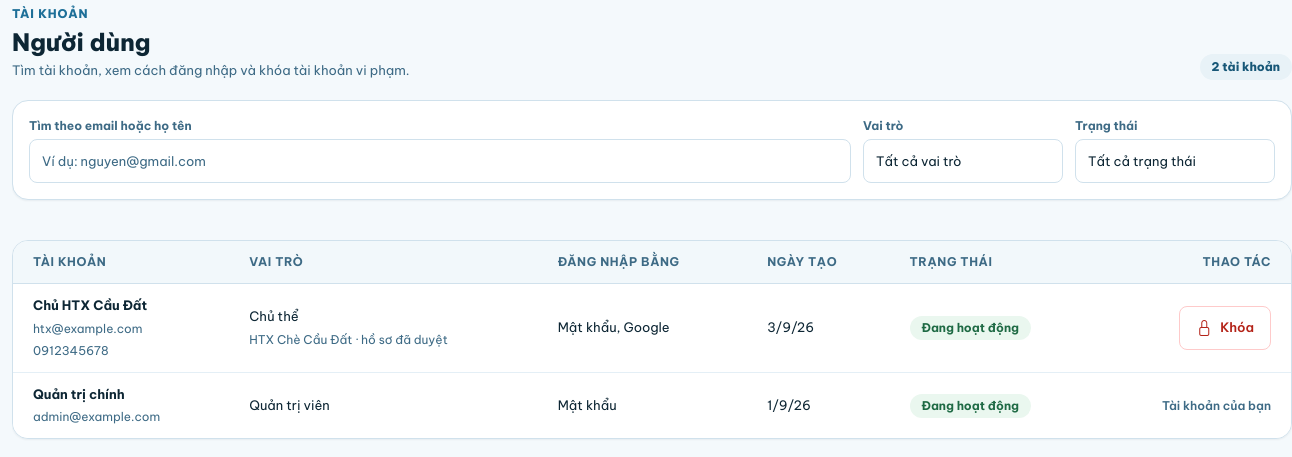
Test case: AdminUsersView › tìm kiếm có debounce và bỏ kết quả cũ khi lọc nhanh
Type "h" into the search field labelled "Tìm theo email hoặc họ tên" at point(440, 161), box [29, 139, 851, 183]
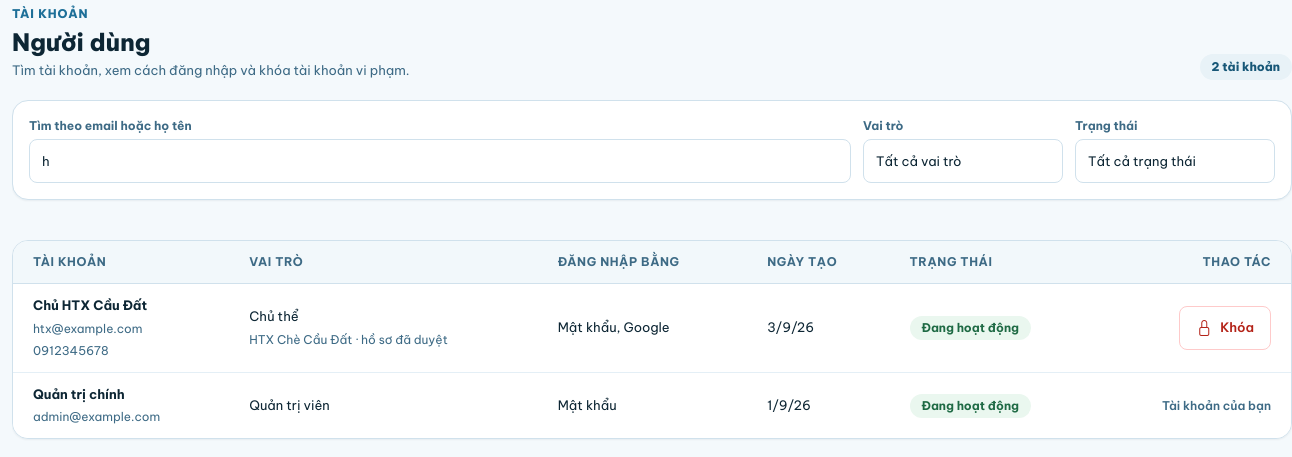
Replace the text in the search field labelled "Tìm theo email hoặc họ tên" with "htx" at point(440, 161), box [29, 139, 851, 183]
Wait 350 ms
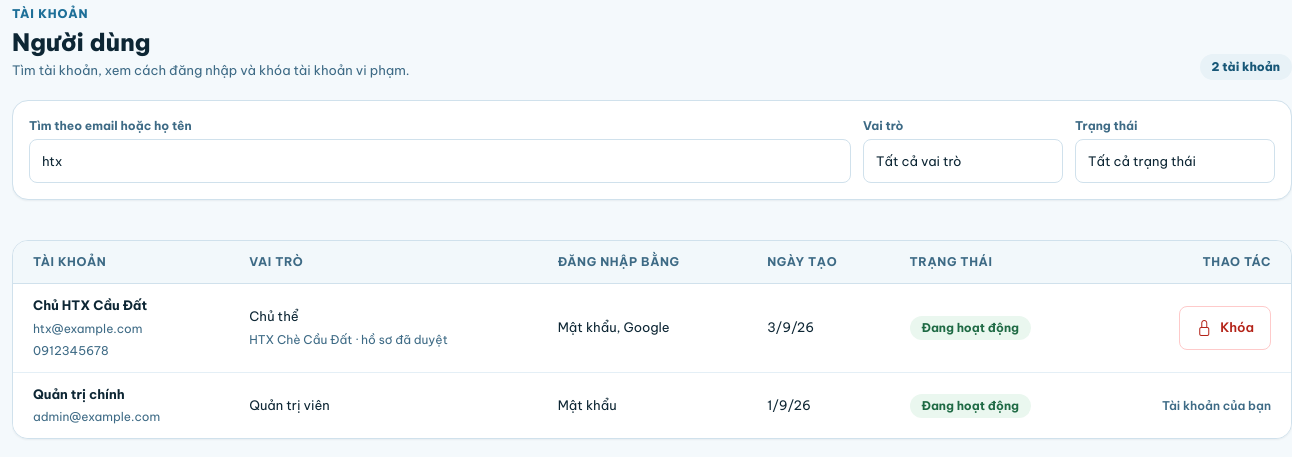
Select "Quản trị viên" in the dropdown labelled "Vai trò" at point(963, 161), box [863, 139, 1063, 183]
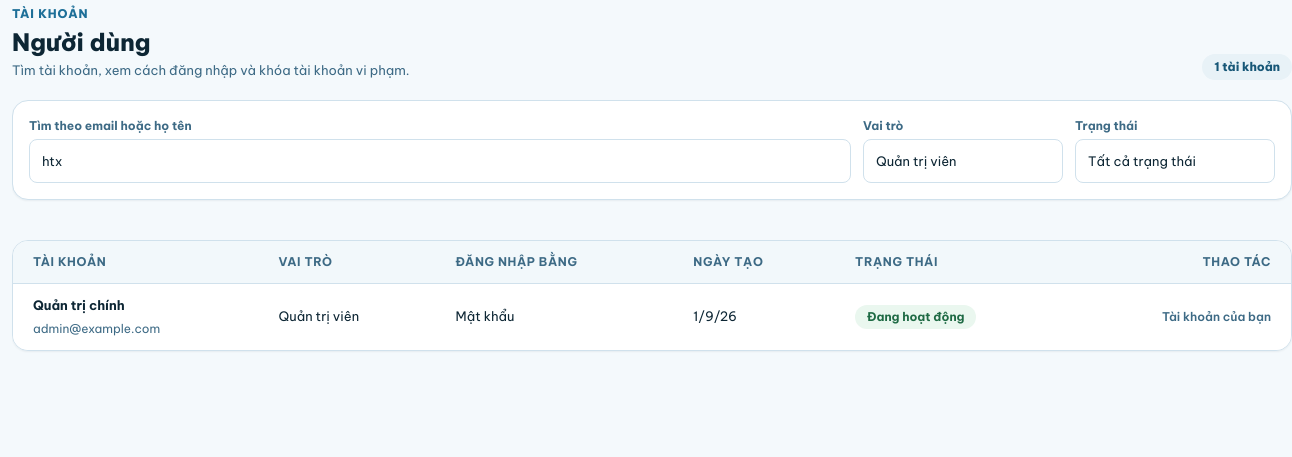
Expected: the text "Quản trị chính" is shown, [33, 297, 125, 313]
Expected: the text "Chủ HTX Cầu Đất" is gone
